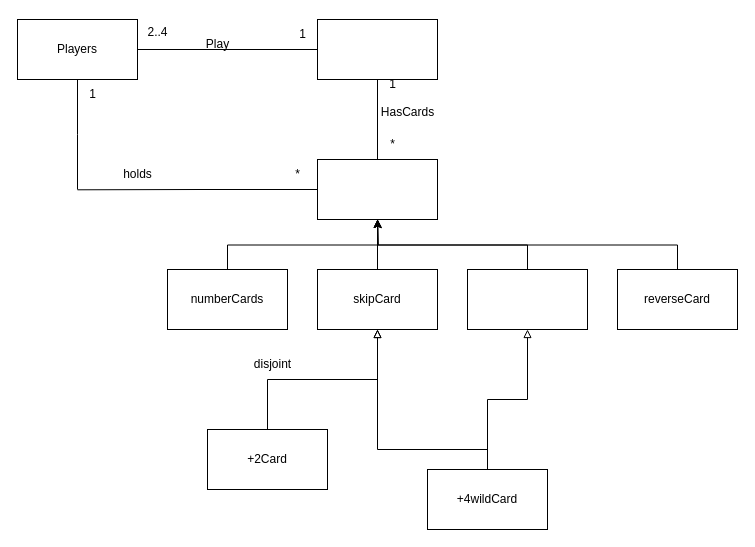
The diagram is 755 pixels wide and 547 high, and some of its shapes have lost their labels. Here are the shapes that lost their labels. From the top down, the box of each, then its label:
(316, 18, 438, 80): UnoGame
(316, 158, 438, 220): UnoCards
(466, 268, 588, 330): wildCard
